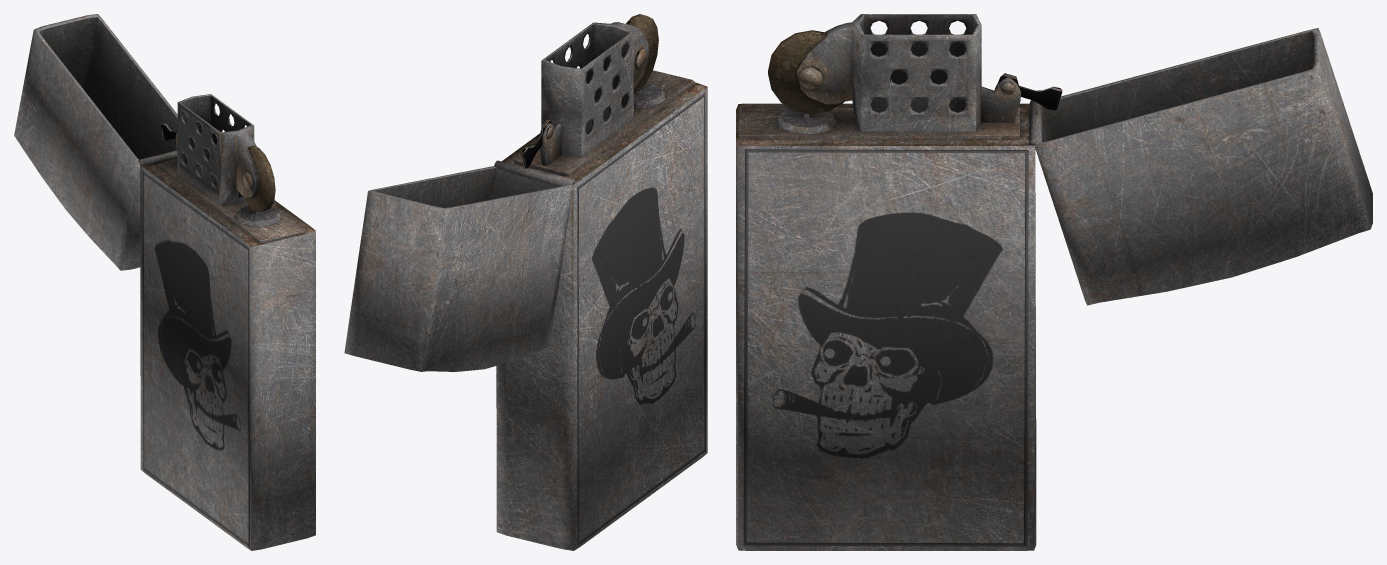
File: Zippo.fbx
3 renders of one model, left to right at view 1: azimuth 30°, elevation 25°; view 2: azimuth 150°, elevation 25°; view 3: azimuth 270°, elevation 25°, orthographic. The views are drawn at different scales.
Parts seen in each view (by area): view 1: main, head; view 2: main, head; view 3: main, head, main_001.
Part boxes in pixels (x1,y1,x2,y2): main: (138, 94, 315, 550); head: (14, 14, 177, 270); main: (494, 14, 707, 550); head: (344, 166, 573, 371); main: (736, 14, 1041, 550); head: (1035, 28, 1372, 305); main_001: (996, 73, 1062, 110).
Size of the model in its own units: 0.2033 by 1.13 by 1.29.
